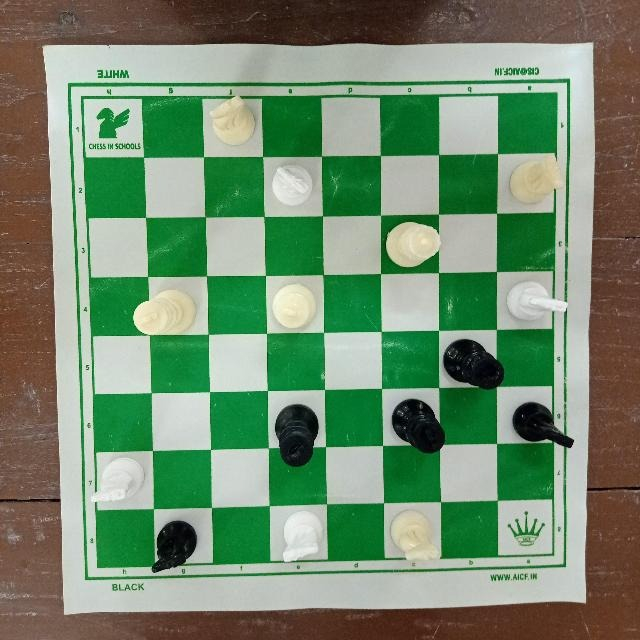black-king: (441, 332, 506, 394), (270, 401, 325, 468), (389, 395, 447, 458)
black-knight: (509, 398, 580, 450), (147, 518, 197, 575)
white-king: (129, 285, 201, 339), (271, 280, 321, 331)
white-knight: (501, 276, 570, 328), (85, 455, 150, 509), (273, 508, 329, 570), (507, 153, 567, 207), (390, 509, 446, 566), (209, 92, 257, 150), (269, 159, 318, 212)
white-queen: (381, 218, 443, 270)
